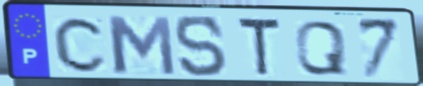7: (357, 16, 402, 82)
C: (51, 14, 110, 74)
M: (103, 13, 179, 77)
Q: (293, 19, 349, 77)
S: (172, 13, 230, 79)
T: (235, 15, 283, 79)
